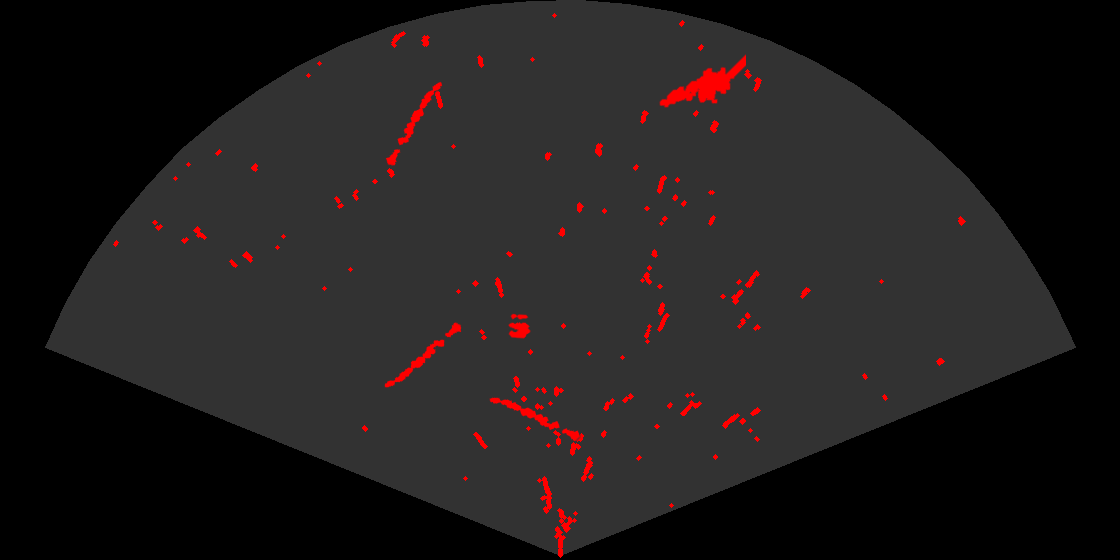ball: (507, 312, 532, 340)
chain: (383, 321, 463, 389), (384, 80, 444, 168), (488, 396, 581, 443)
frogman: (658, 53, 746, 109)
